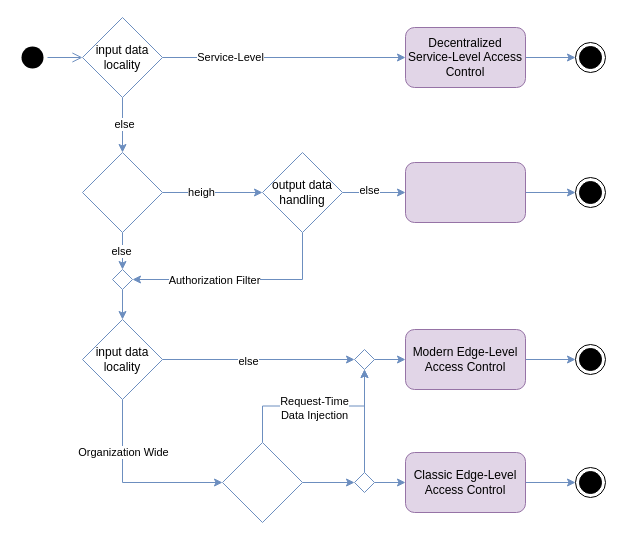
The diagram is 623 pixels wide and 540 high, and some of its shapes have lost their labels. The centre of each missing label's shape, as x and y in pixels:
Centralized Service-Level Access Control: point 465,192
output data cardinality: point 122,192
output data distribution: point 262,482
